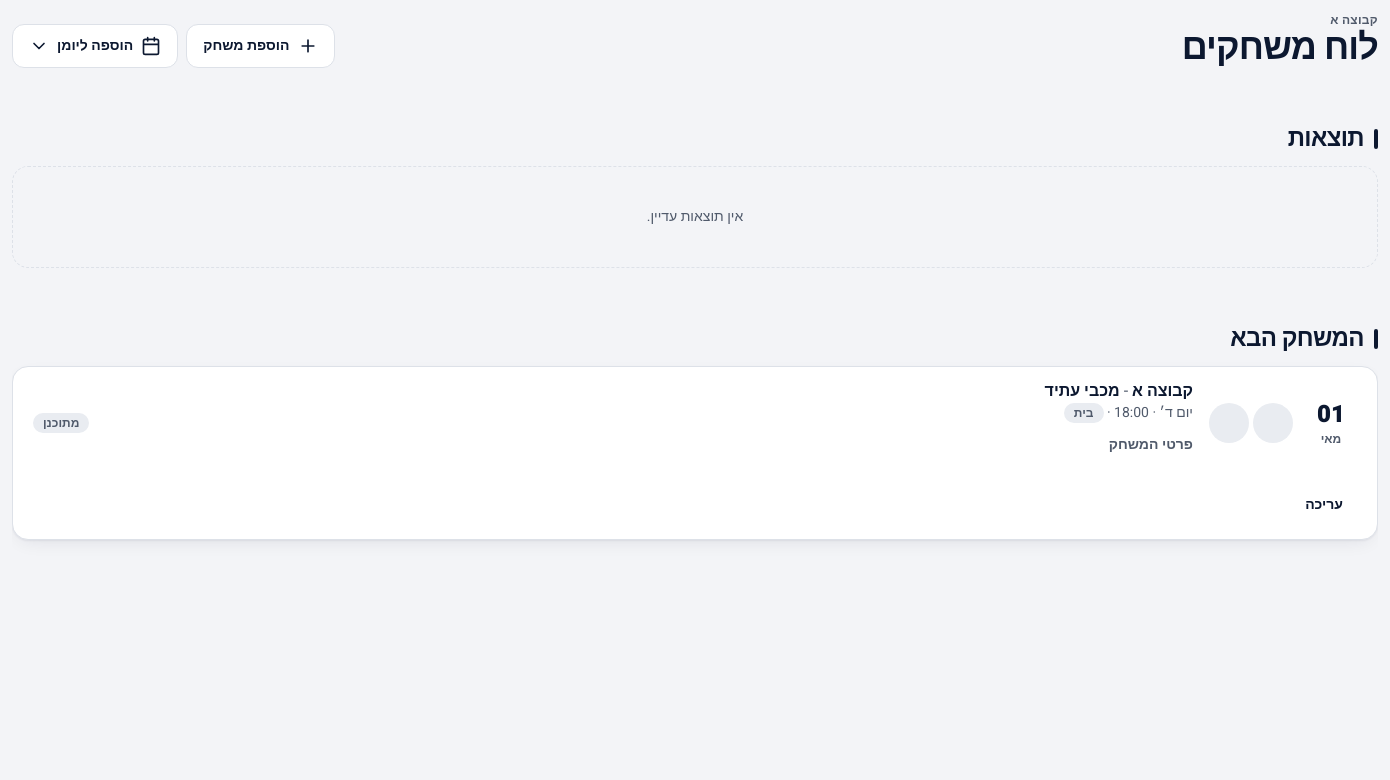
Test: ScheduleView › inline game editing › team admin adds a game from the schedule and it appears under upcoming
Click the button "הוספת משחק" at coordinates (260, 46), box [186, 24, 335, 68]
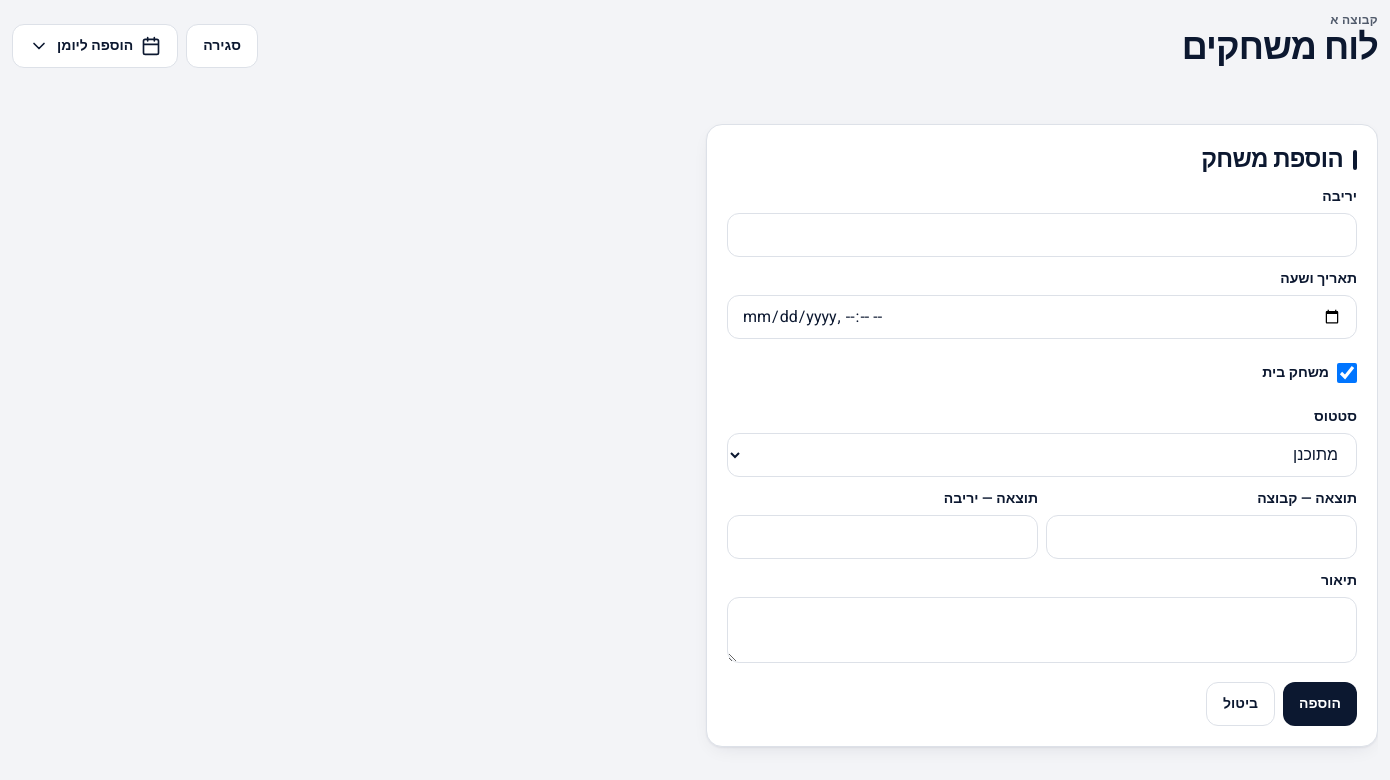
Type "בני חדש" into the field with id "game-opponent-name" at coordinates (1042, 235), box [727, 213, 1357, 257]
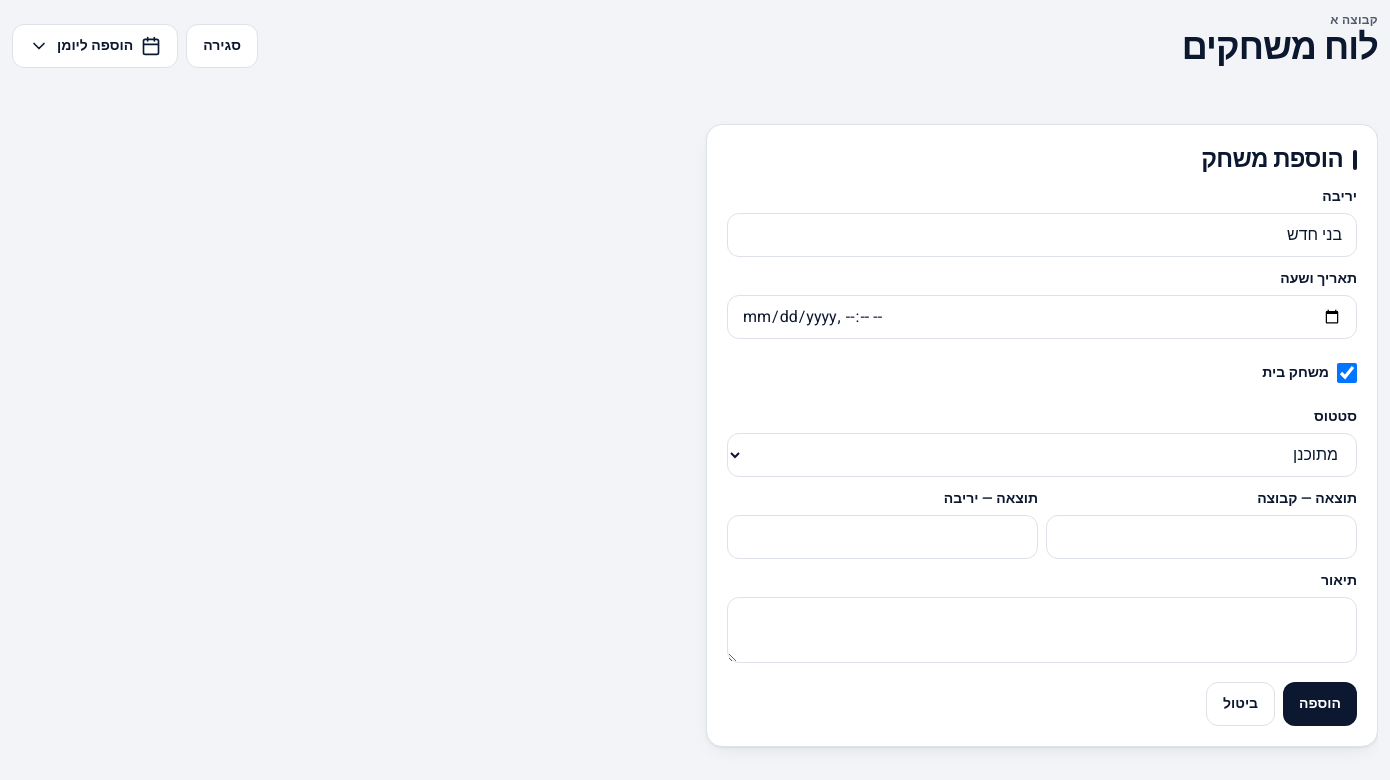
Type "2030-06-01T18:00" into the field with id "game-scheduled-at" at coordinates (1042, 317), box [727, 295, 1357, 339]
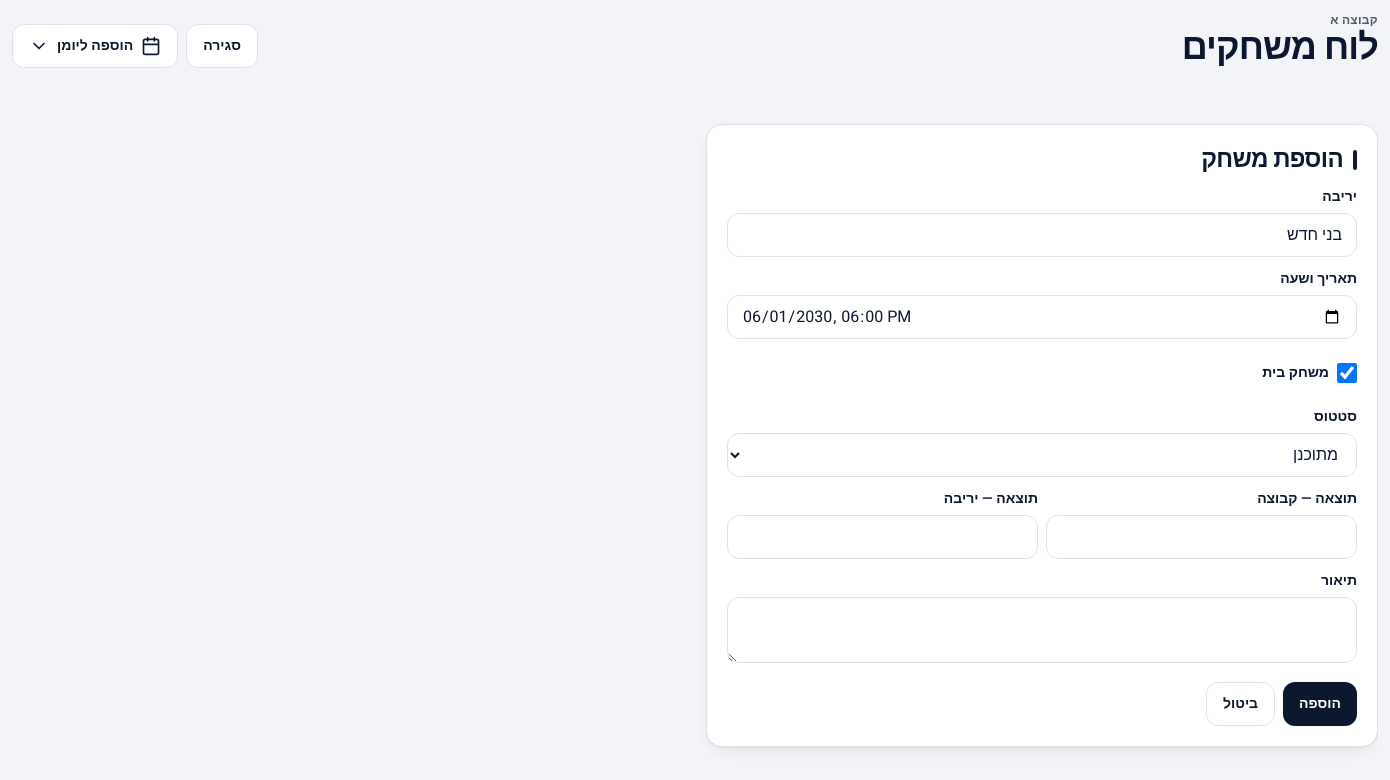
Submit the form, box [706, 124, 1378, 747]
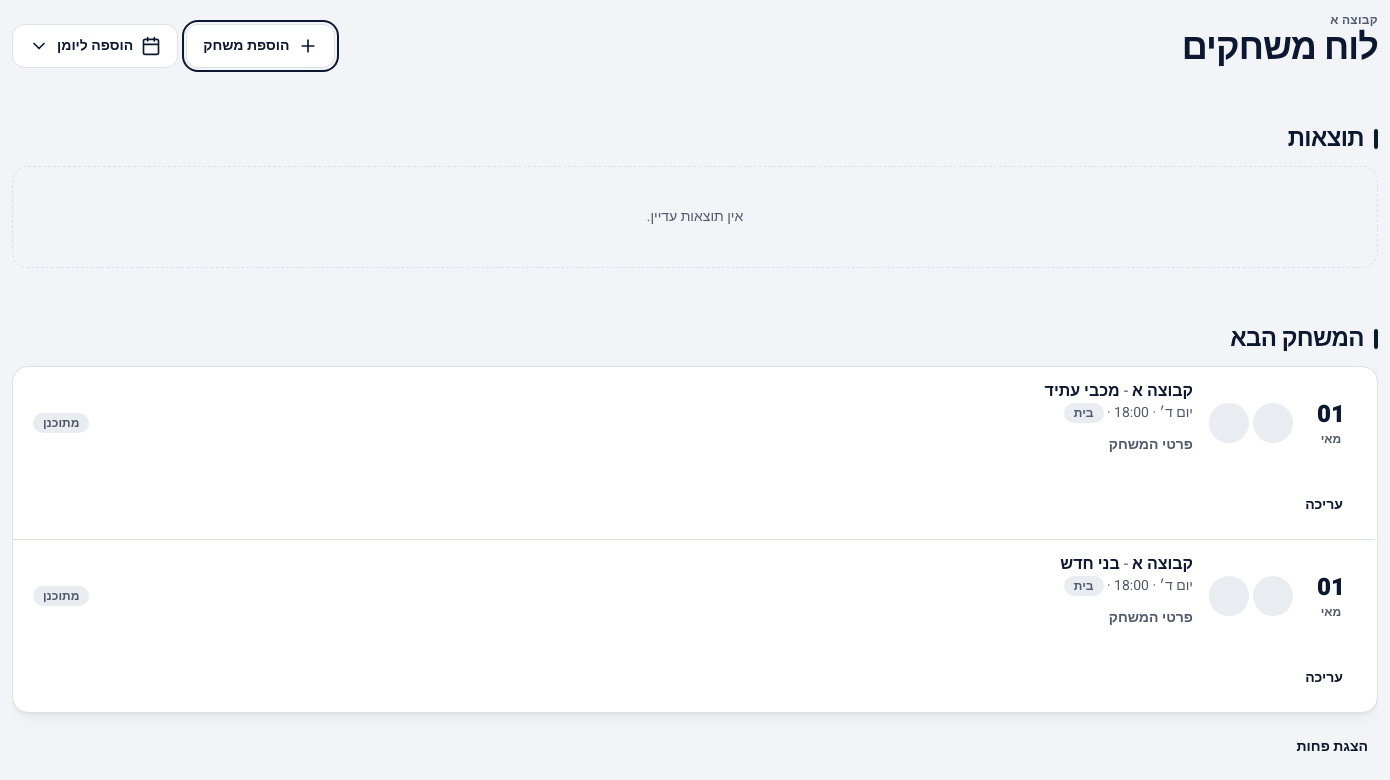
Expected: the link "בני חדש" is shown, [1060, 552, 1120, 576]
Expected: the text "בני חדש" is shown, [1060, 552, 1120, 576]
